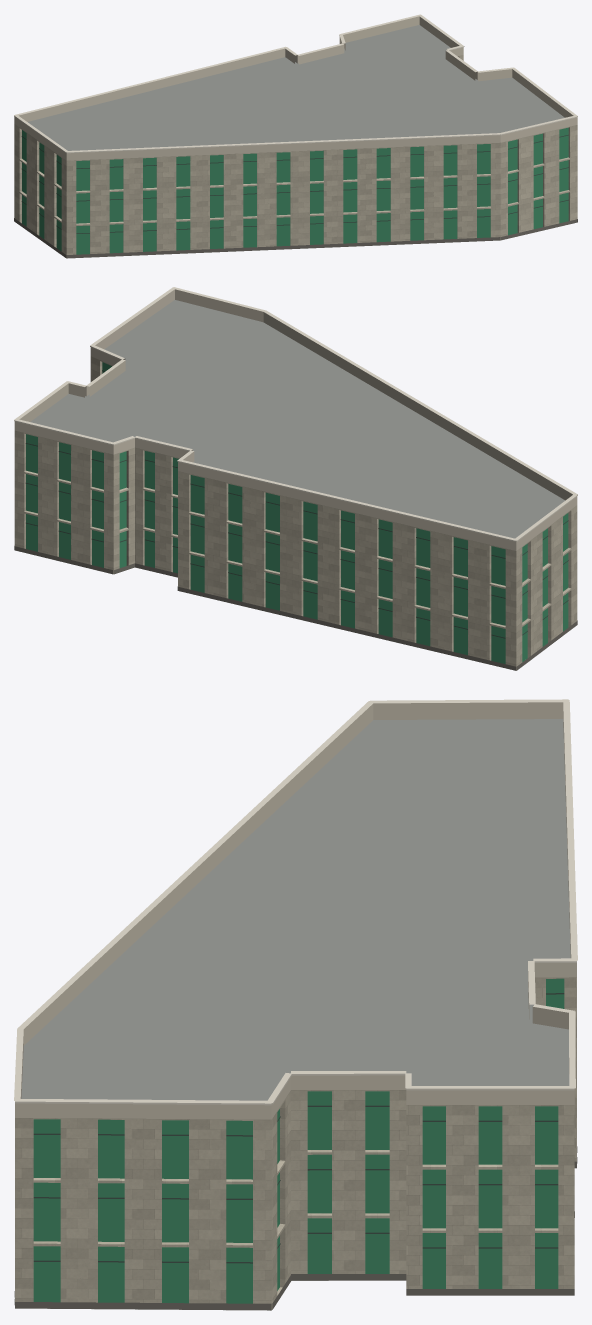
The picture shows the model from 3 angles, top to bottom: view 1: azimuth 30°, elevation 25°; view 2: azimuth 150°, elevation 25°; view 3: azimuth 270°, elevation 25°; orthographic projection. The views are drawn at different scales.
Visible parts, largest first — view 1: admissions__wall, admissions__roof, admissions__glass, admissions__parapet, admissions__trim, admissions__base, admissions__frame; view 2: admissions__roof, admissions__wall, admissions__glass, admissions__parapet, admissions__trim, admissions__base, admissions__frame; view 3: admissions__roof, admissions__wall, admissions__glass, admissions__parapet, admissions__trim, admissions__base, admissions__frame.
Boxes of the visible parts, box(x1,y1,x2,y2) form: admissions__wall: box(14, 43, 577, 257); admissions__roof: box(28, 25, 564, 150); admissions__glass: box(22, 127, 568, 254); admissions__parapet: box(14, 16, 577, 160); admissions__trim: box(14, 14, 577, 153); admissions__base: box(14, 218, 577, 258); admissions__frame: box(21, 134, 568, 233); admissions__roof: box(30, 300, 564, 538); admissions__wall: box(14, 356, 577, 670); admissions__glass: box(26, 362, 568, 663); admissions__parapet: box(14, 289, 577, 550); admissions__trim: box(14, 287, 577, 541); admissions__base: box(14, 546, 577, 670); admissions__frame: box(25, 370, 568, 638); admissions__roof: box(21, 719, 570, 1310); admissions__wall: box(15, 977, 576, 1309); admissions__glass: box(33, 978, 564, 1303); admissions__parapet: box(15, 702, 576, 1119); admissions__trim: box(14, 699, 577, 1105); admissions__base: box(14, 1146, 577, 1310); admissions__frame: box(33, 993, 564, 1263).
Bounding box in the file's own units: 51.88 × 12.42 × 30.6.
Materials: 7 (1 with a texture image).
